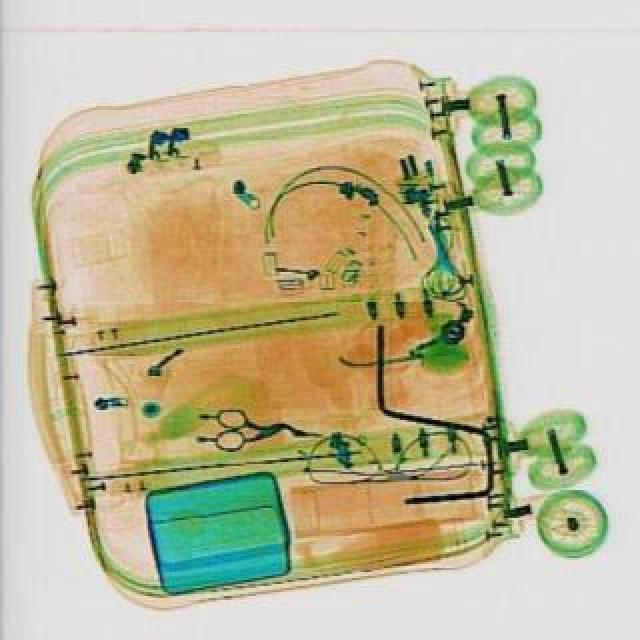pliers: (212, 406, 316, 454)
